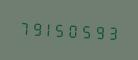five: (82, 20, 94, 41), (56, 19, 68, 39)
nine: (30, 17, 42, 38), (95, 21, 107, 42)
one: (43, 18, 55, 39)
seven: (17, 17, 29, 37)
three: (108, 22, 120, 42)
zero: (69, 20, 81, 40)
